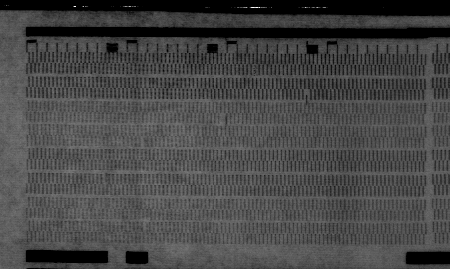Broken hole: (217, 112, 228, 123)
Oblique printing: (301, 87, 311, 103)
